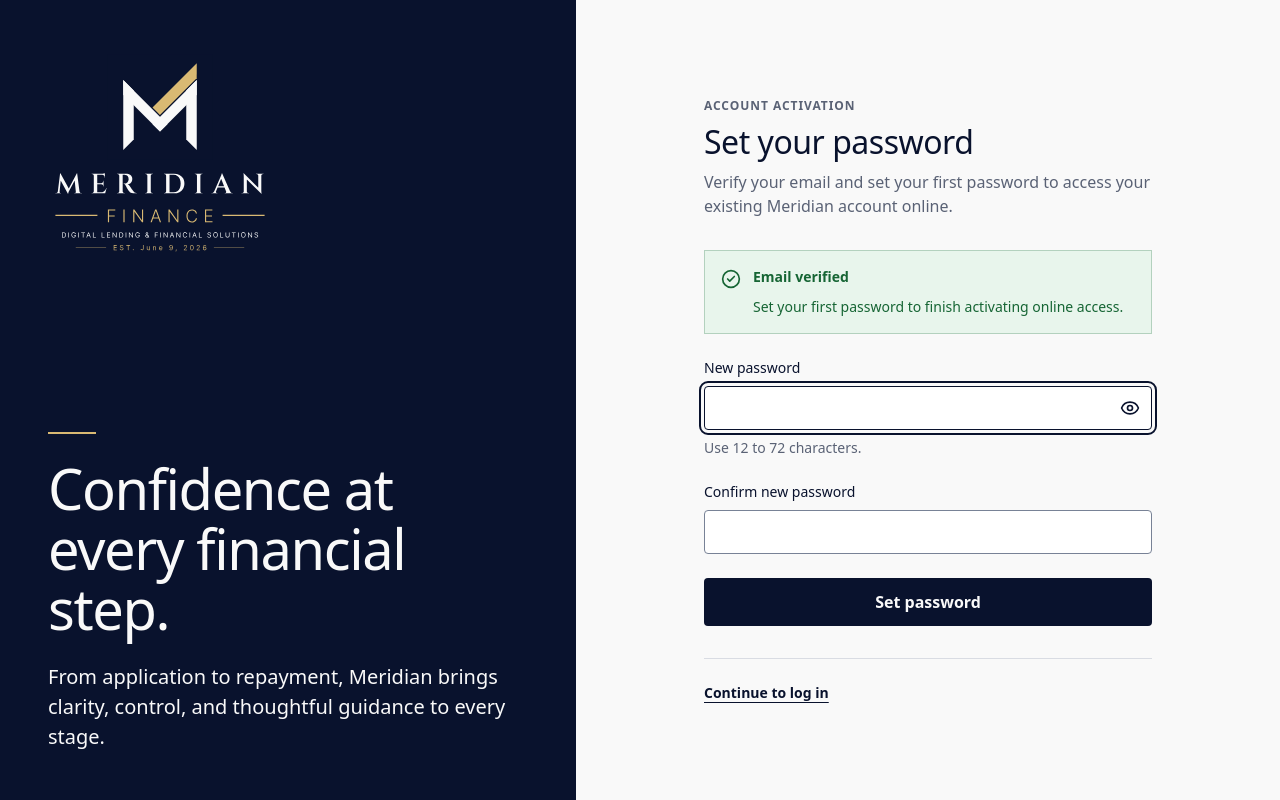
Scenario: validates the existing password policy and confirmation (short)
The image size is (1280, 800).
Type "short" into the password field labelled "New password" at (928,408), box [704,386,1152,430]
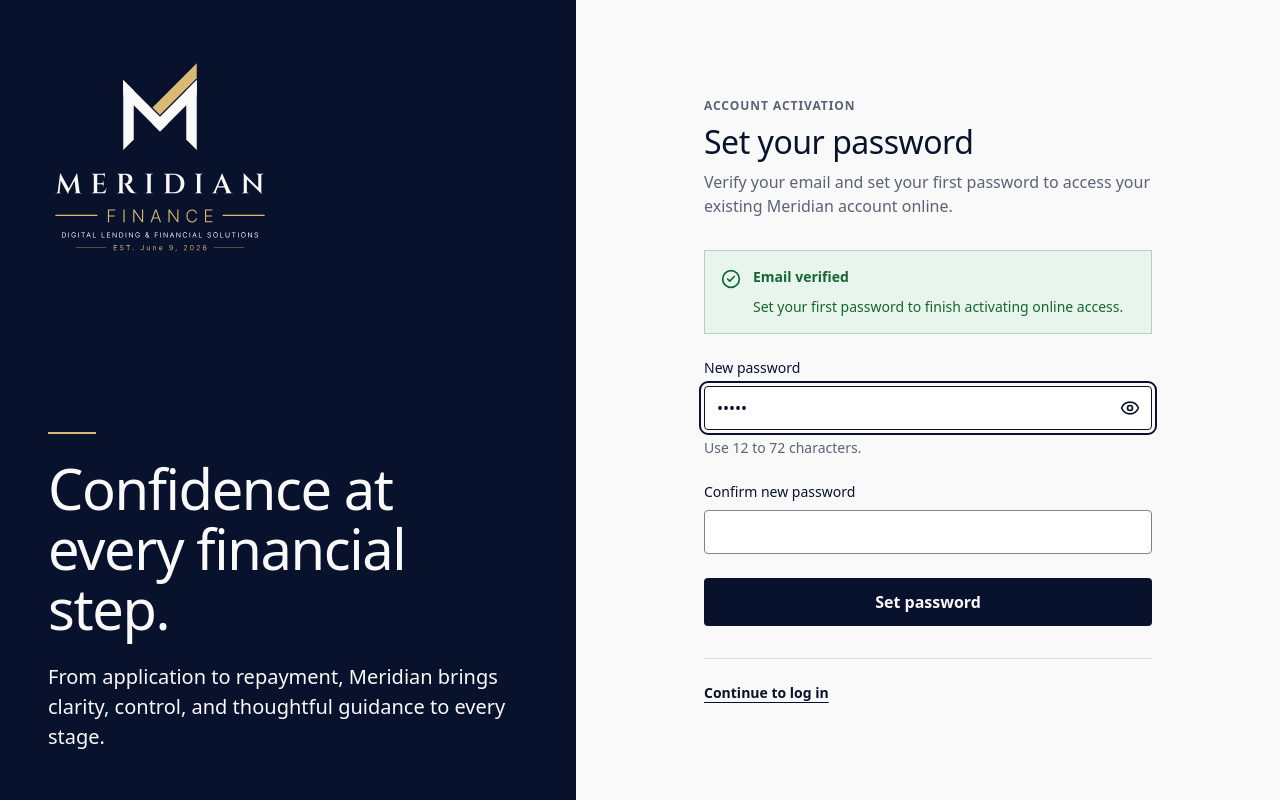
Type "short" into the password field labelled "Confirm new password" at (928,532), box [704,510,1152,554]
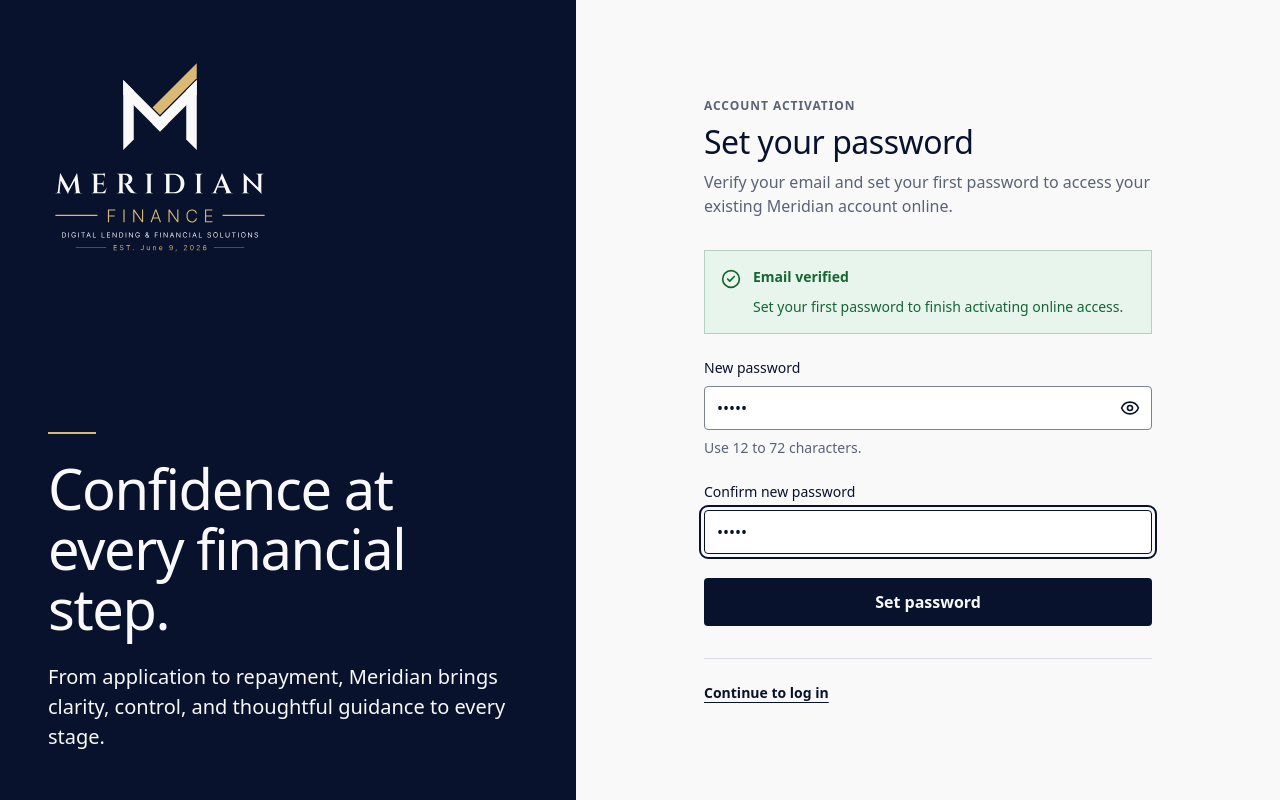
Click the button "Set password" at (928,602), box [704,578,1152,626]
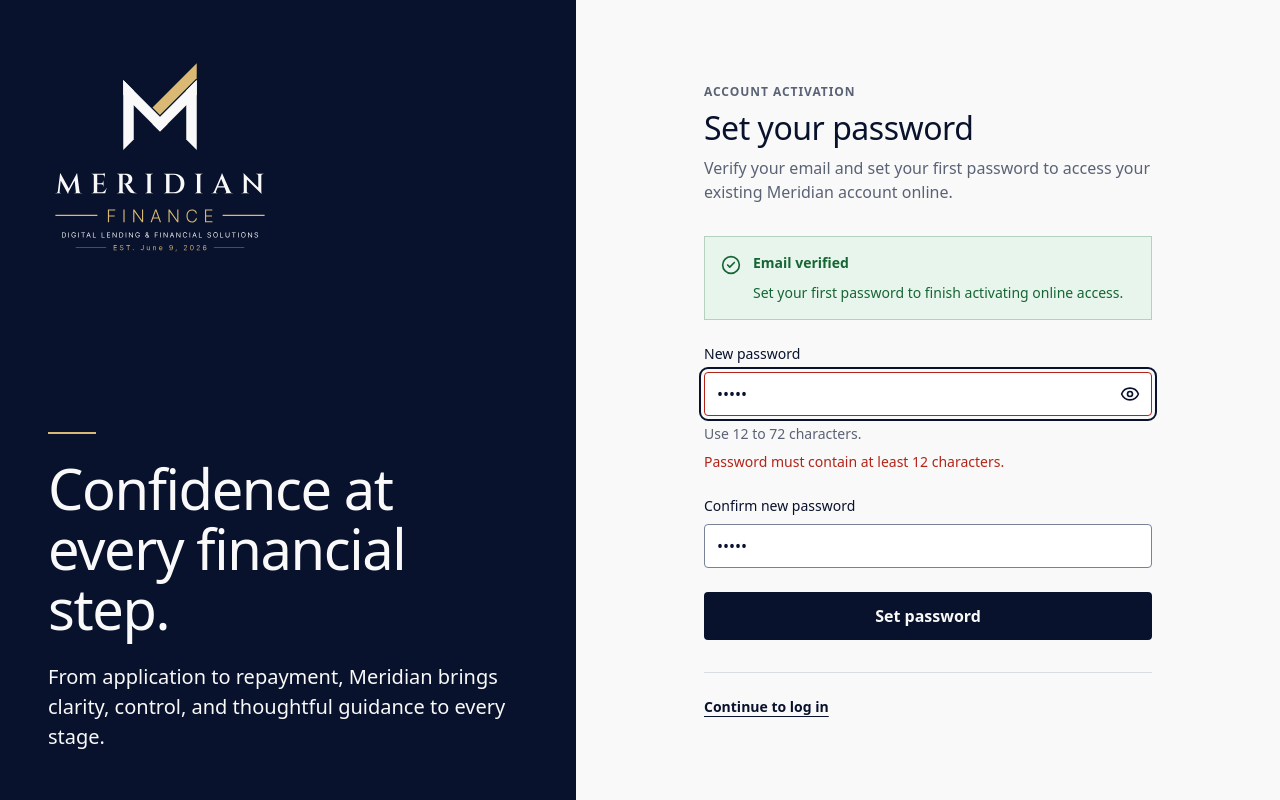
Expected: the text "Password must contain at least 12 characters." is shown, [704,452,1004,470]
